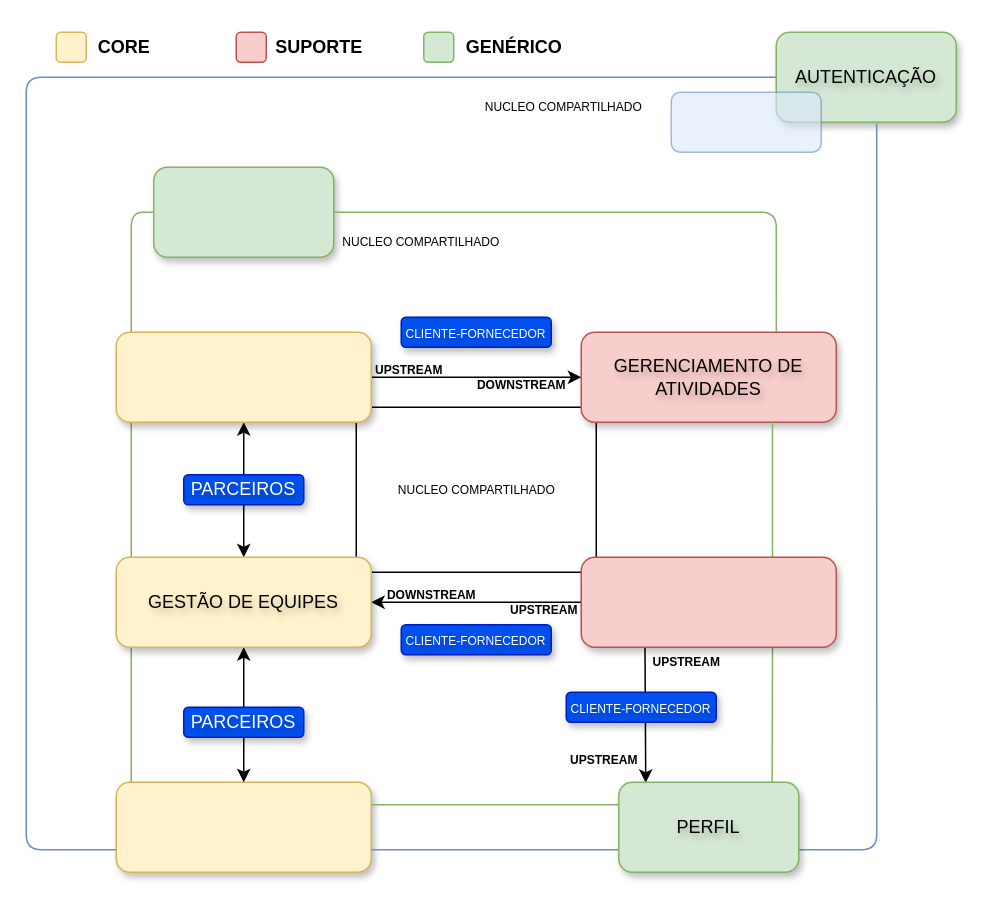
The diagram is 992 pixels wide and 909 high, and some of its shapes have lost their labels. Each missing label, with the centre of its shape:
ATIVIDADES: pixel 244 379
CAMADA ANTICORRUPÇÃO: pixel 745 121
COMUNICAÇÃO: pixel 244 829
GERENCIAMENTO DE USUÁRIOS: pixel 709 604
NOTIFICAÇÃO: pixel 244 214
